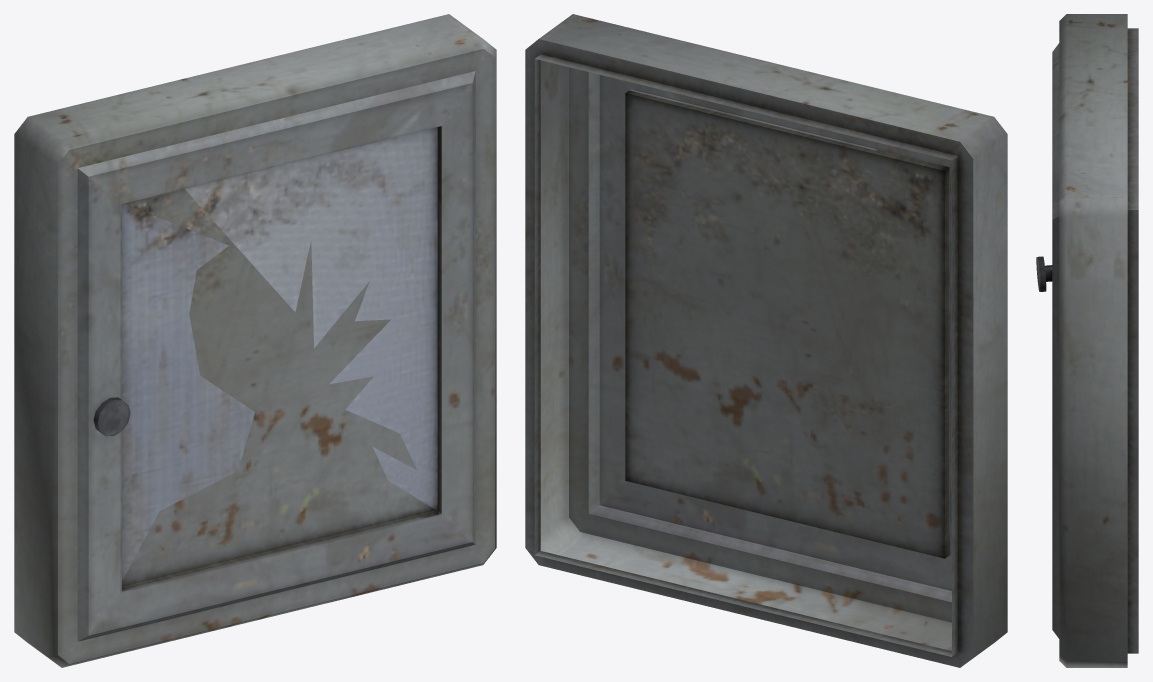
Rendered from SmallStorage.FBX.
The picture shows the model from 3 angles, left to right: view 1: azimuth 30°, elevation 25°; view 2: azimuth 150°, elevation 25°; view 3: azimuth 270°, elevation 25°; orthographic projection. The views are drawn at different scales.
Visible parts, largest first — view 1: SmallStorage; view 2: SmallStorage; view 3: SmallStorage.
Boxes of the visible parts, x1,y1,x2,y2 form: SmallStorage: [14, 14, 496, 667]; SmallStorage: [525, 14, 1007, 667]; SmallStorage: [1036, 14, 1138, 667].
Bounding box in the file's own units: 64.37 × 72.22 × 14.24.
